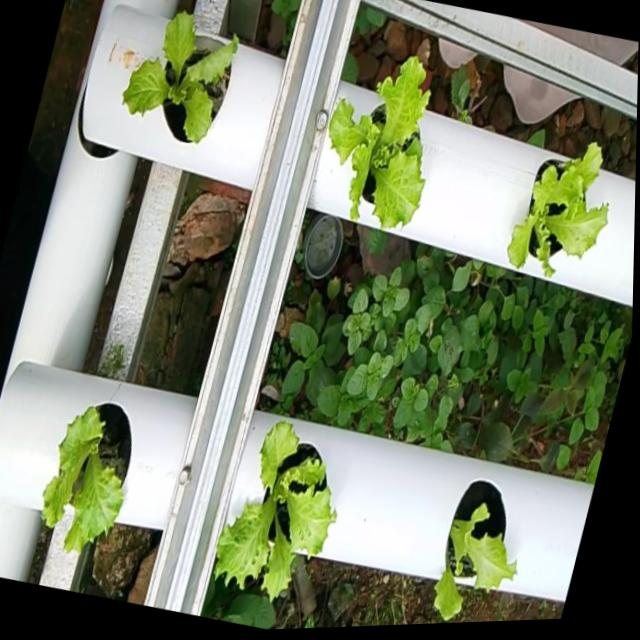Baby: (211, 421, 335, 602), (326, 59, 427, 230), (120, 15, 236, 147), (503, 142, 603, 275), (42, 405, 130, 554), (433, 475, 514, 614)
